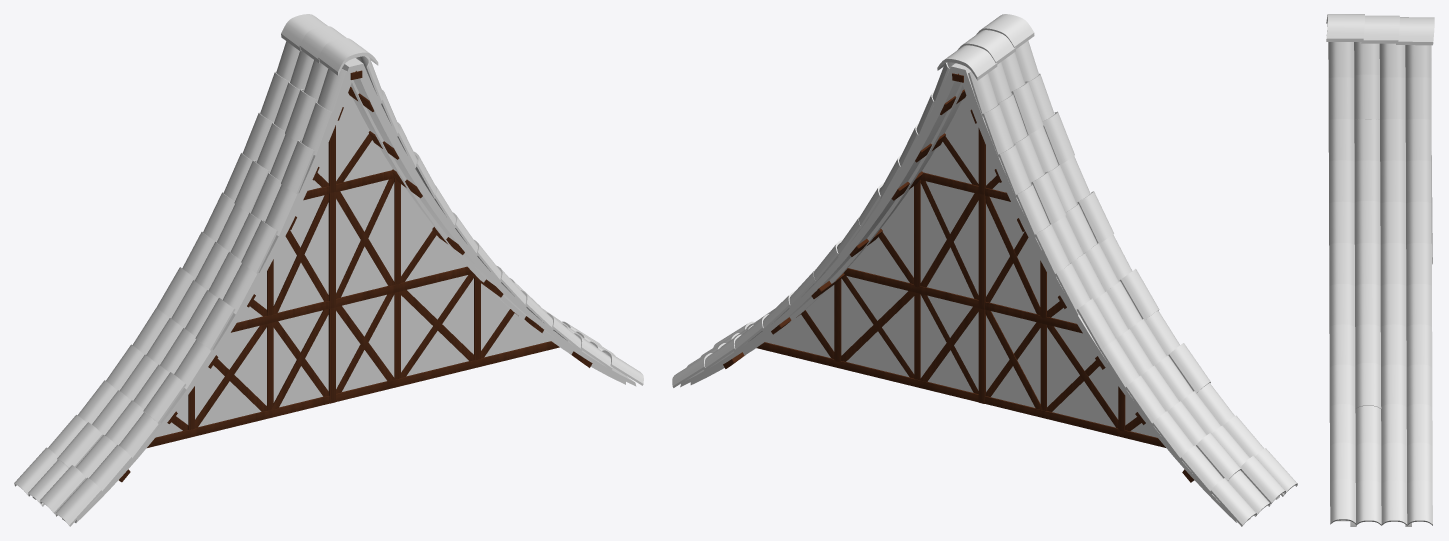
File: L_Roof_Frame_Wood 1.fbx
The picture shows the model from 3 angles, left to right: view 1: azimuth 30°, elevation 25°; view 2: azimuth 150°, elevation 25°; view 3: azimuth 270°, elevation 25°; orthographic projection. The views are drawn at different scales.
Parts seen in each view (by area): view 1: Cube.025, L_Roof_Frame_Wood, Cube.082, Cube.019; view 2: Cube.025, L_Roof_Frame_Wood, Cube.082, Cube.019; view 3: Cube.025, L_Roof_Frame_Wood.
Part boxes in pixels (x1=…): Cube.025: x1=14, y1=14, x2=643, y2=526; L_Roof_Frame_Wood: x1=32, y1=58, x2=636, y2=522; Cube.082: x1=147, y1=125, x2=559, y2=447; Cube.019: x1=119, y1=70, x2=592, y2=482; Cube.025: x1=672, y1=14, x2=1297, y2=526; L_Roof_Frame_Wood: x1=680, y1=63, x2=1279, y2=522; Cube.082: x1=756, y1=128, x2=1165, y2=447; Cube.019: x1=723, y1=73, x2=1194, y2=482; Cube.025: x1=1326, y1=14, x2=1434, y2=525; L_Roof_Frame_Wood: x1=1336, y1=45, x2=1431, y2=526.
Bounding box in the file's own units: 1300 × 870 × 224.
